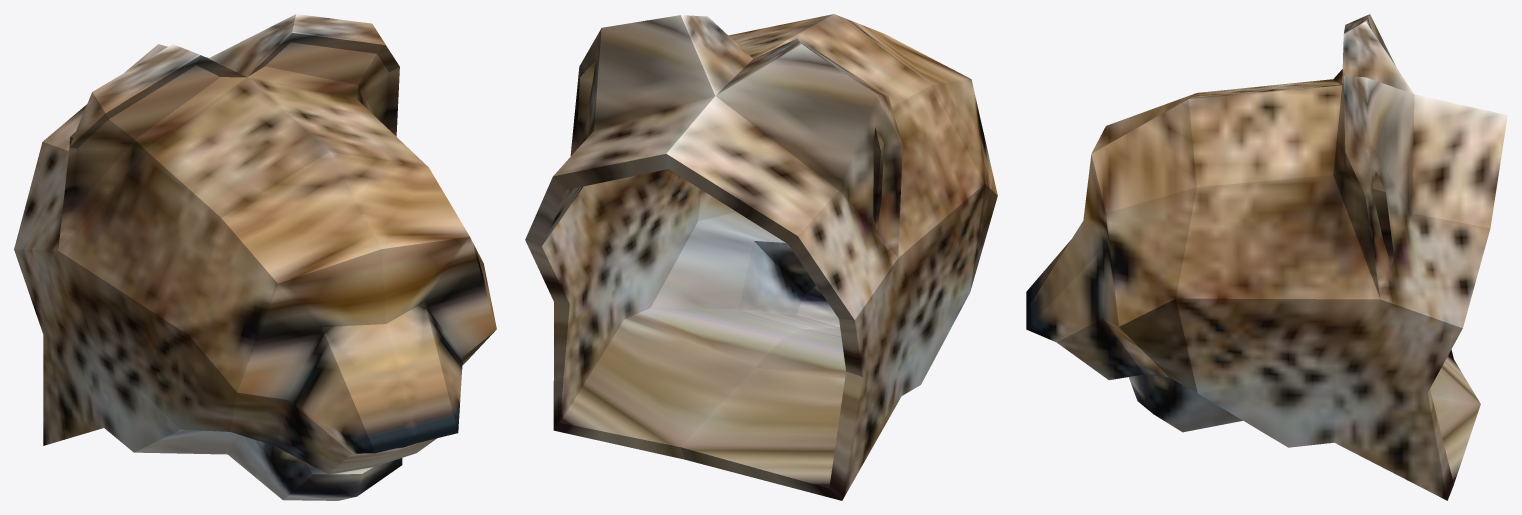
File: cheetuhMask.fbx
3 renders of one model, left to right at view 1: azimuth 30°, elevation 25°; view 2: azimuth 150°, elevation 25°; view 3: azimuth 270°, elevation 25°, orthographic. The views are drawn at different scales.
Visible parts, largest first — view 1: CheetuhMask; view 2: CheetuhMask; view 3: CheetuhMask.
Part boxes in pixels (box(x1,y1,x2,y2)): CheetuhMask: box(14, 14, 496, 500); CheetuhMask: box(525, 14, 997, 500); CheetuhMask: box(1026, 14, 1507, 500).
Size of the model in its own units: 49.55 by 58.1 by 65.9.
